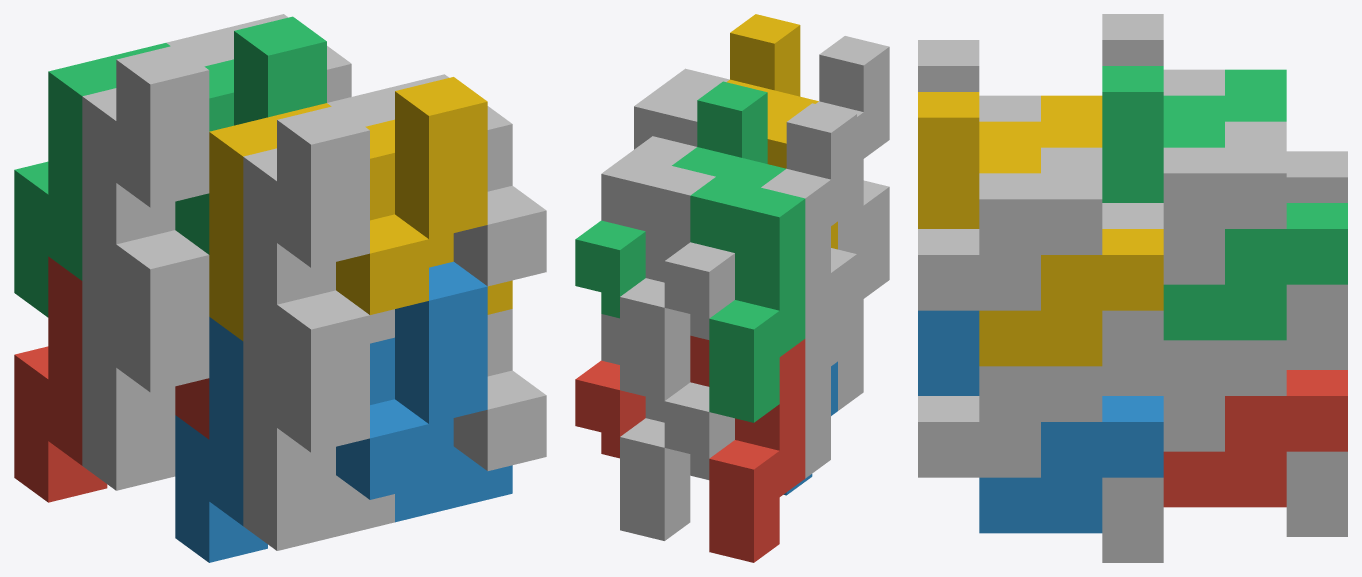
Rendered from tiling.obj.
3 views of the same model, side by side, from view 1: azimuth 30°, elevation 25°; view 2: azimuth 150°, elevation 25°; view 3: azimuth 270°, elevation 25° (orthographic). The views are drawn at different scales.
Parts seen in each view (by area): view 1: copy_2_domain_2, copy_2_domain_1, copy_2_domain_4, copy_2_domain_3, copy_1_domain_2, copy_2_domain_6, copy_1_domain_4, copy_1_domain_3, copy_2_domain_8, copy_1_domain_1, copy_1_domain_8, copy_2_domain_7 (+2 smaller); view 2: copy_1_domain_3, copy_1_domain_7, copy_2_domain_3, copy_1_domain_1, copy_2_domain_7, copy_2_domain_1, copy_1_domain_5, copy_2_domain_4, copy_2_domain_8, copy_2_domain_2, copy_2_domain_5, copy_1_domain_8 (+2 smaller); view 3: copy_2_domain_8, copy_2_domain_7, copy_1_domain_8, copy_1_domain_7, copy_2_domain_6, copy_1_domain_6, copy_1_domain_5, copy_2_domain_5, copy_2_domain_3, copy_1_domain_3, copy_1_domain_4, copy_2_domain_4.
Boxes of the visible parts, x1,y1,x2,y2 form: copy_2_domain_2: [243, 290, 394, 550]; copy_2_domain_1: [82, 230, 209, 490]; copy_2_domain_4: [243, 105, 394, 365]; copy_2_domain_3: [82, 45, 209, 305]; copy_1_domain_2: [175, 317, 428, 562]; copy_2_domain_6: [395, 261, 512, 522]; copy_1_domain_4: [209, 103, 428, 340]; copy_1_domain_3: [14, 43, 233, 317]; copy_2_domain_8: [365, 77, 512, 314]; copy_1_domain_1: [14, 256, 209, 502]; copy_1_domain_8: [327, 74, 546, 286]; copy_2_domain_7: [204, 16, 326, 125]; copy_1_domain_3: [690, 158, 805, 422]; copy_1_domain_7: [601, 136, 715, 400]; copy_2_domain_3: [664, 103, 856, 339]; copy_1_domain_1: [690, 335, 805, 562]; copy_2_domain_7: [575, 81, 767, 318]; copy_2_domain_1: [664, 248, 856, 479]; copy_1_domain_5: [601, 314, 690, 540]; copy_2_domain_4: [816, 36, 889, 256]; copy_2_domain_8: [726, 14, 800, 96]; copy_2_domain_2: [838, 180, 889, 410]; copy_2_domain_5: [575, 360, 645, 458]; copy_1_domain_8: [634, 68, 729, 149]; copy_2_domain_8: [918, 92, 1163, 366]; copy_2_domain_7: [1102, 66, 1347, 340]; copy_1_domain_8: [918, 147, 1163, 395]; copy_1_domain_7: [1102, 121, 1347, 369]; copy_2_domain_6: [918, 310, 1163, 533]; copy_1_domain_6: [918, 366, 1163, 562]; copy_1_domain_5: [1163, 340, 1347, 536]; copy_2_domain_5: [1163, 370, 1347, 507]; copy_2_domain_3: [1102, 14, 1347, 202]; copy_1_domain_3: [1163, 69, 1286, 121]; copy_1_domain_4: [979, 95, 1102, 147]; copy_2_domain_4: [918, 40, 1040, 121].
Size of the model in its own units: 5 by 8 by 7.
